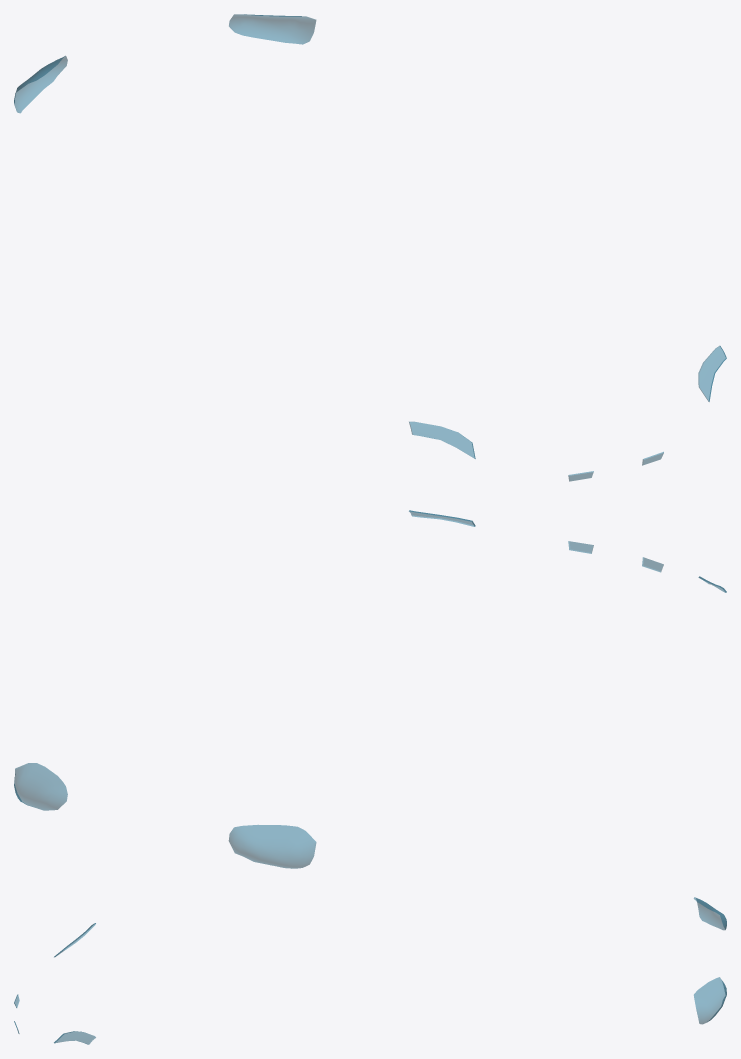
File: NyxLightening_Glass.fbx
3 views of the same model, one above another, from view 1: azimuth 30°, elevation 25°; view 2: azimuth 150°, elevation 25°; view 3: azimuth 270°, elevation 25° (orthographic). The views are drawn at different scales.
Parts seen in each view (by area): view 1: AST_NLX-207_Glass; view 2: AST_NLX-207_Glass; view 3: AST_NLX-207_Glass.
Part boxes in pixels (left/top/right/bottom): AST_NLX-207_Glass: left=14, top=14, right=726, bottom=481; AST_NLX-207_Glass: left=14, top=510, right=726, bottom=868; AST_NLX-207_Glass: left=14, top=897, right=726, bottom=1044.
Bounding box in the file's own units: 2.09 × 0.61 × 5.46.
